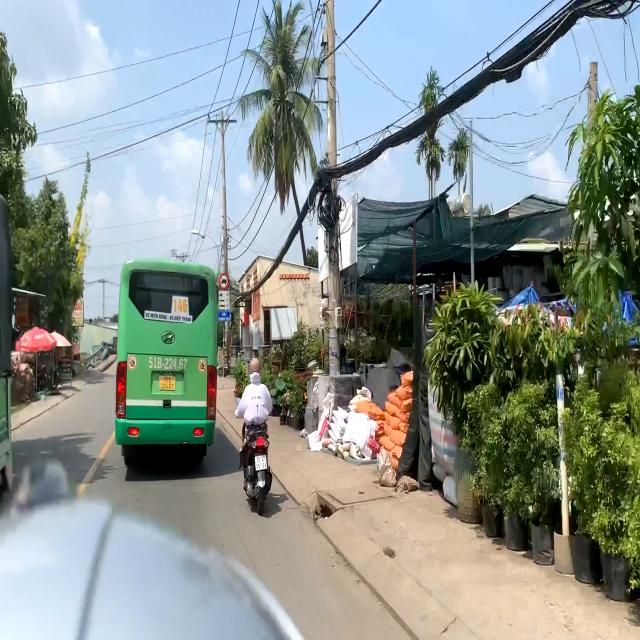P.106a: (219, 272, 229, 290)
